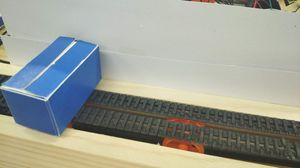box3: (0, 35, 102, 137)
